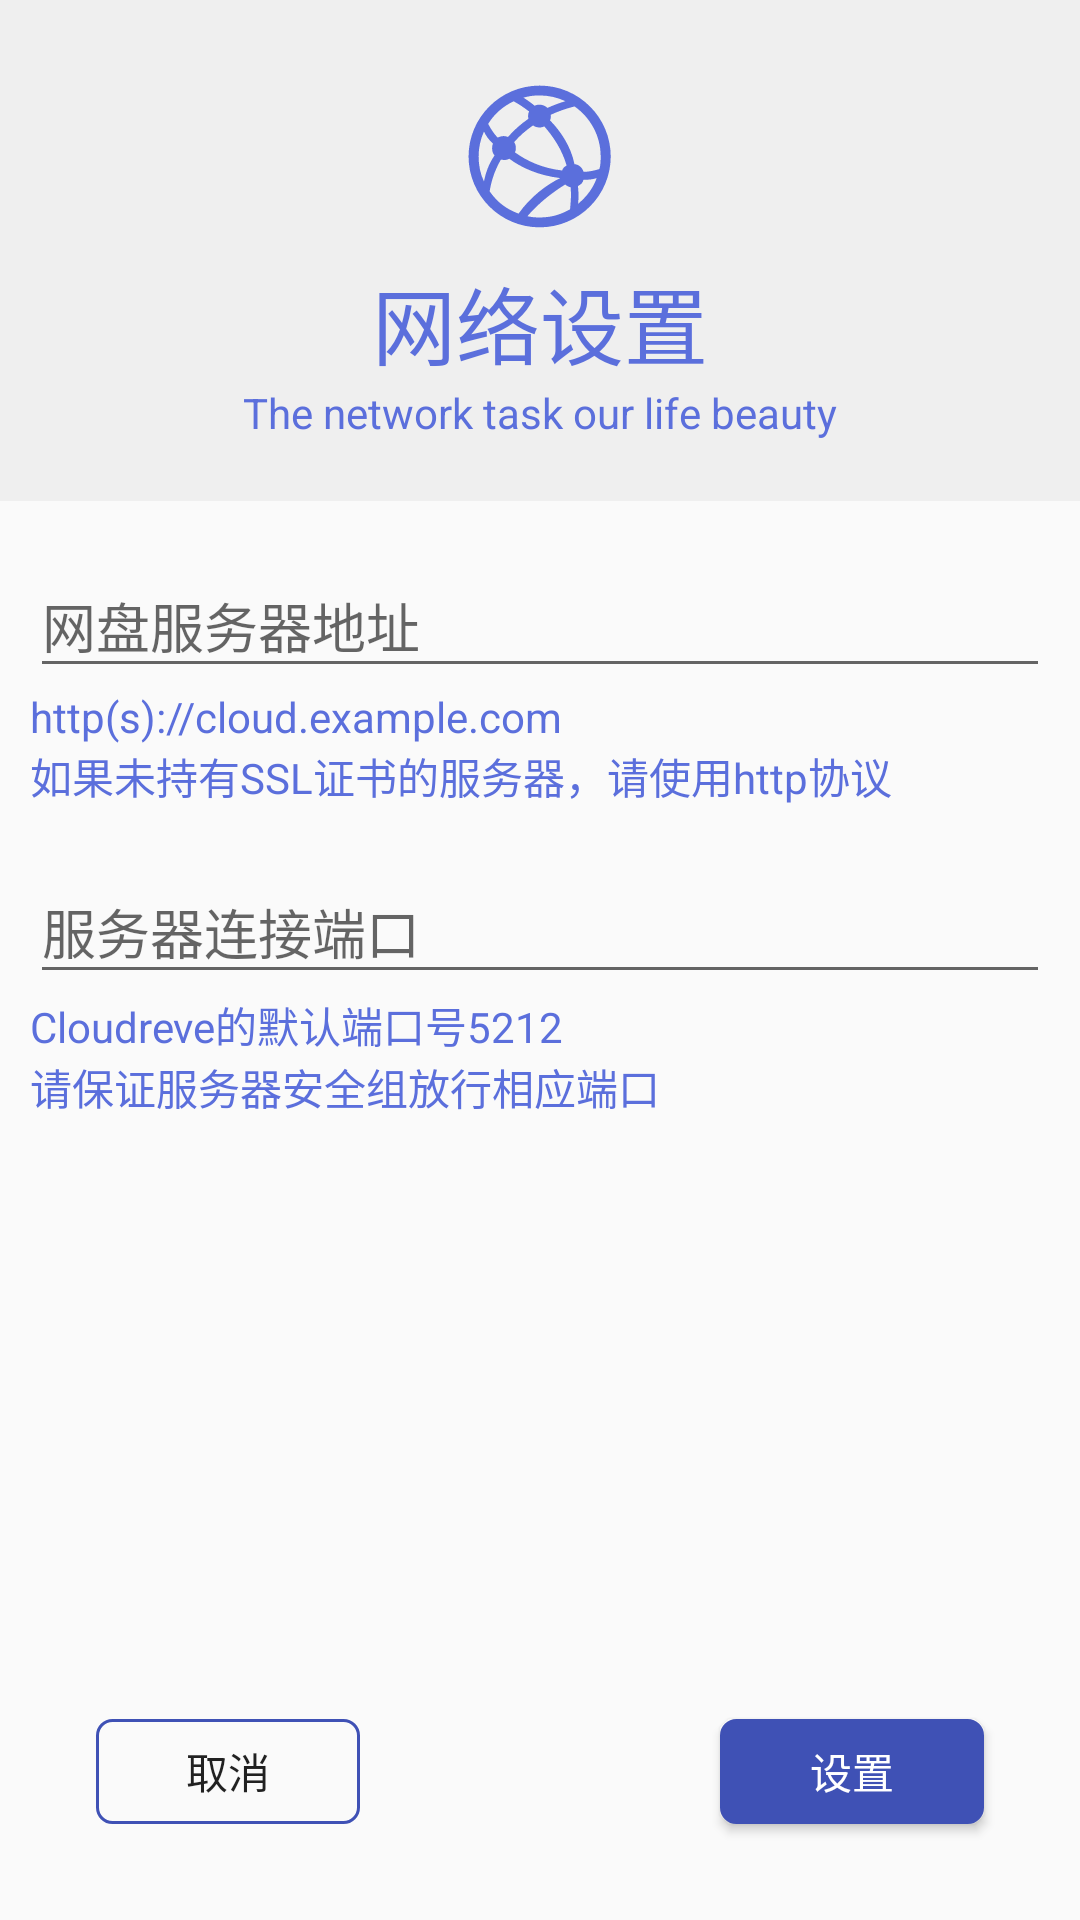

Point at icon controls on the screen. Image size 1080 × 1920, points as (x,y).
settings network: (539,156)
